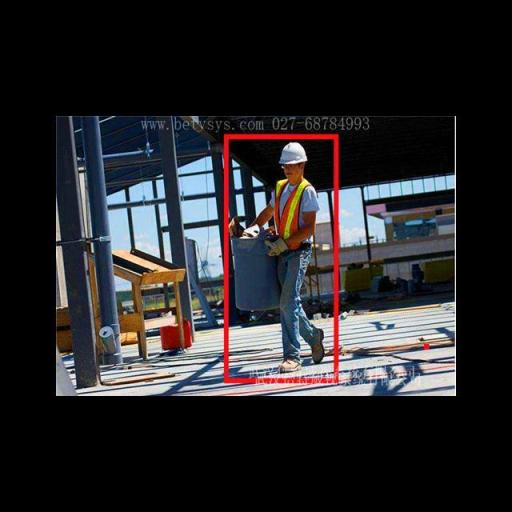Person: (228, 136, 344, 382)
helmet: (272, 141, 308, 168)
vest: (264, 176, 320, 246)
